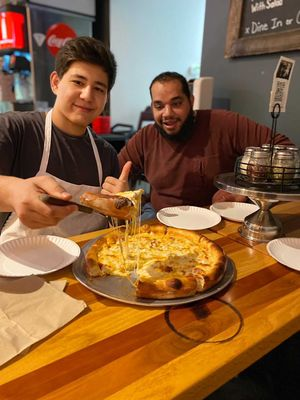curry: (0, 212, 298, 399)
sandwich: (80, 225, 226, 299), (85, 228, 131, 278)
